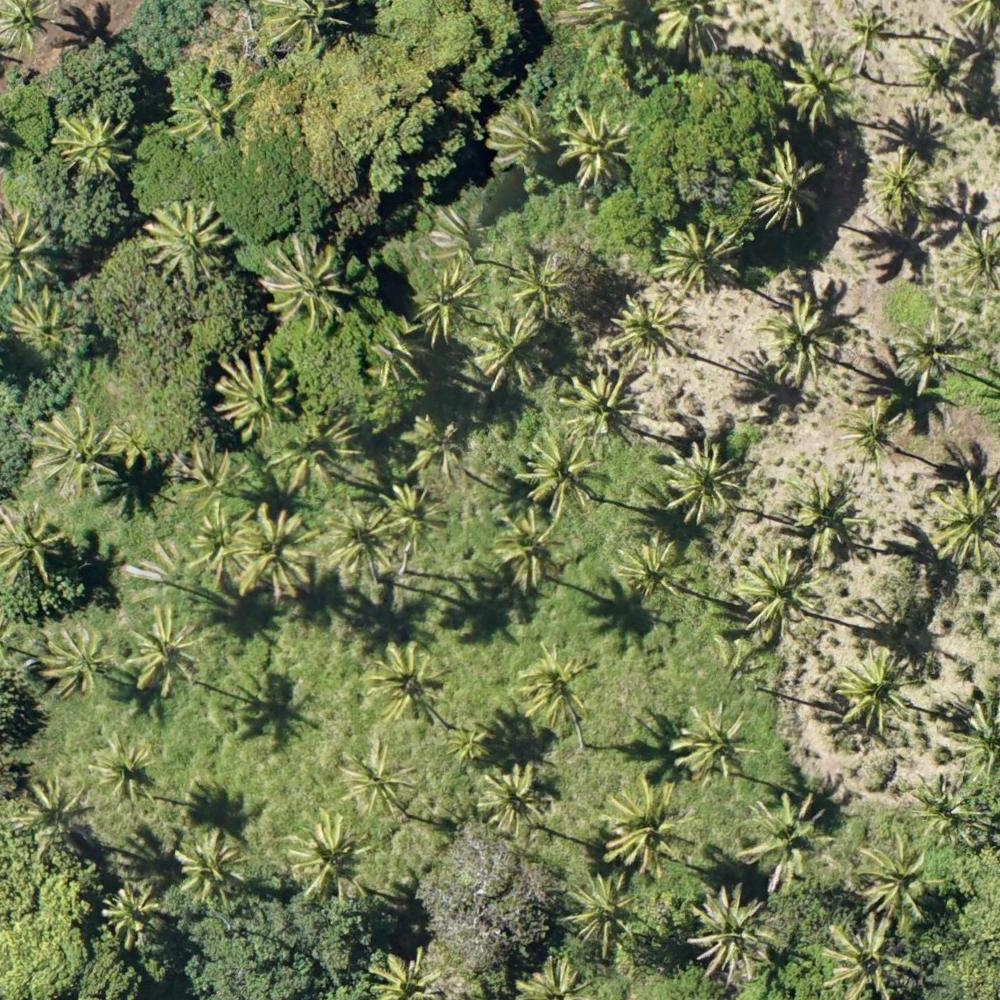Palm: (600, 777, 692, 877), (692, 885, 781, 977), (856, 832, 935, 932), (262, 238, 347, 329), (142, 201, 229, 289), (787, 466, 870, 557), (238, 506, 318, 600), (822, 923, 924, 996), (737, 555, 823, 641), (28, 408, 115, 493), (212, 350, 293, 441), (285, 812, 370, 898), (670, 697, 754, 782), (759, 296, 842, 380), (565, 875, 647, 960), (130, 606, 211, 692), (663, 442, 745, 526), (657, 217, 742, 297), (524, 427, 602, 514), (862, 147, 945, 228), (911, 767, 992, 849), (471, 764, 552, 844), (281, 417, 359, 500), (750, 141, 823, 229), (897, 310, 976, 391), (839, 648, 917, 728), (513, 644, 590, 725), (555, 101, 630, 184), (561, 367, 647, 439), (374, 639, 455, 715), (326, 504, 401, 586), (489, 510, 563, 593), (1, 504, 68, 589), (785, 49, 858, 127), (607, 291, 691, 358), (339, 742, 414, 817), (474, 317, 548, 393), (6, 288, 85, 359), (930, 478, 1000, 557), (380, 477, 454, 550), (54, 109, 129, 180), (1, 209, 59, 297), (22, 782, 92, 854), (39, 624, 109, 696), (401, 411, 471, 483), (411, 271, 481, 342), (901, 33, 970, 105), (486, 100, 557, 169), (93, 734, 159, 807), (175, 450, 249, 515), (188, 508, 248, 588), (170, 83, 245, 146), (836, 398, 907, 462), (178, 833, 245, 899), (620, 539, 688, 604), (96, 883, 164, 944), (511, 258, 576, 318), (946, 224, 1000, 296), (843, 10, 893, 66), (1, 1, 49, 51), (111, 418, 156, 464), (443, 723, 488, 766)
